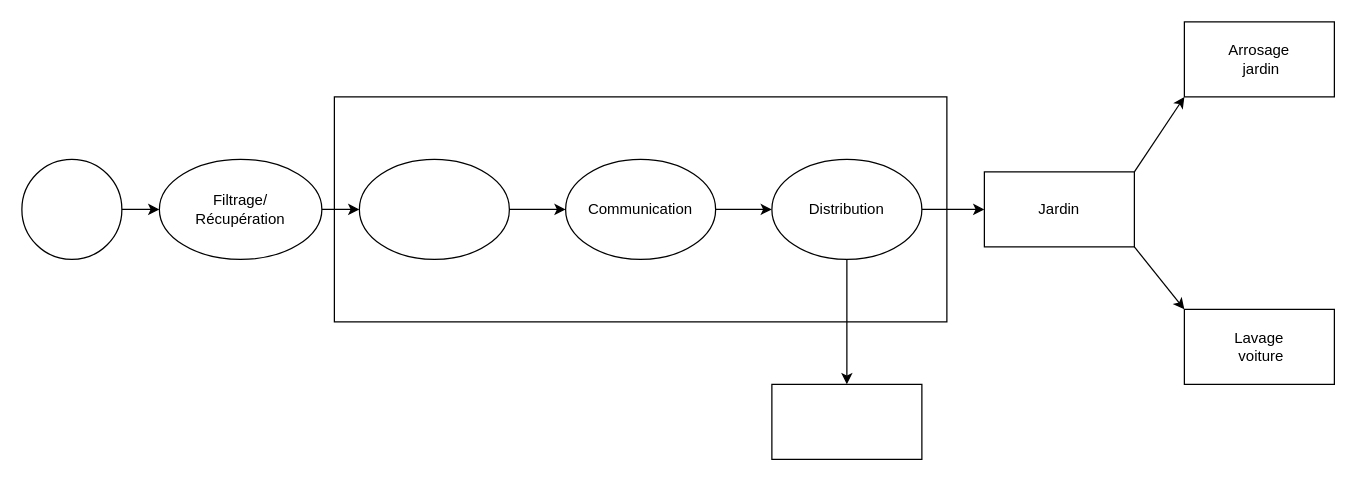
This 1356x481 diagram has some shape labels left out. Here are the shapes that lost their labels. From the top down, the box of each, then its label:
(21, 158, 122, 259): Pluie
(358, 158, 509, 259): Stockage
(771, 383, 922, 459): Toilettes
